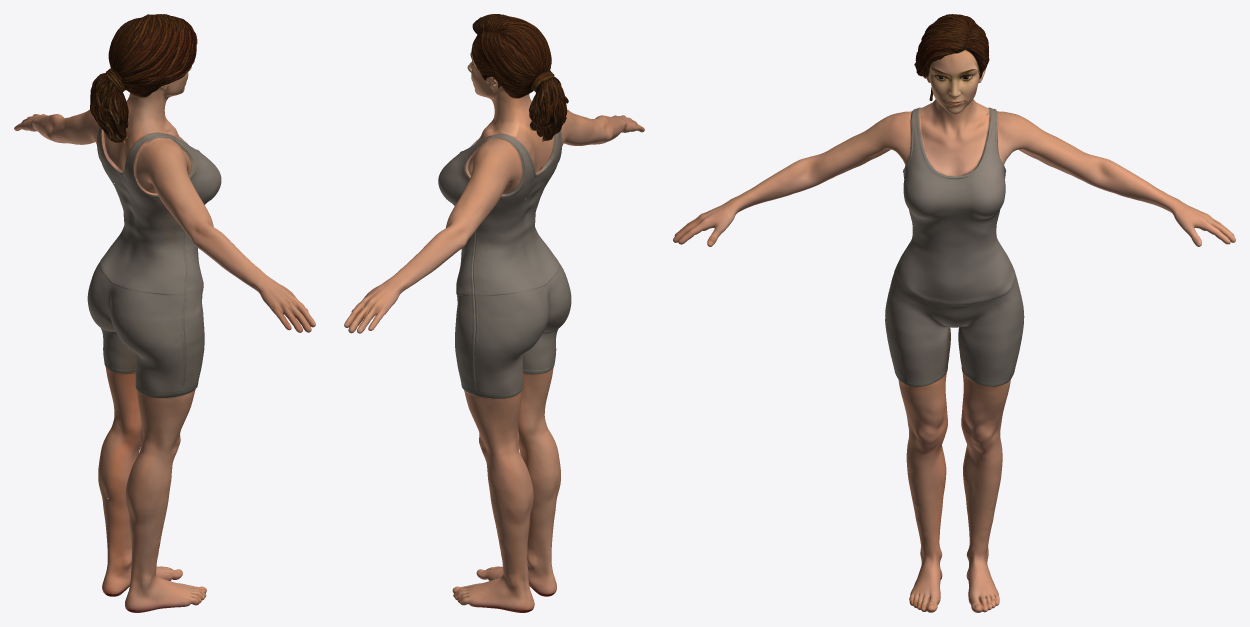
The model's file is women.glb.
The picture shows the model from 3 angles, left to right: view 1: azimuth 30°, elevation 25°; view 2: azimuth 150°, elevation 25°; view 3: azimuth 270°, elevation 25°; orthographic projection.
Parts seen in each view (by area): view 1: tripo_node_52f5b36e-579b-4929-a761-899104028d96; view 2: tripo_node_52f5b36e-579b-4929-a761-899104028d96; view 3: tripo_node_52f5b36e-579b-4929-a761-899104028d96.
Boxes of the visible parts, box(x1,y1,x2,y2) form: tripo_node_52f5b36e-579b-4929-a761-899104028d96: box(14, 14, 315, 612); tripo_node_52f5b36e-579b-4929-a761-899104028d96: box(344, 14, 644, 612); tripo_node_52f5b36e-579b-4929-a761-899104028d96: box(673, 14, 1235, 612).
Size of the model in its own units: 0.3541 by 1.75 by 1.55.
Materials: 1 (1 with a texture image).
